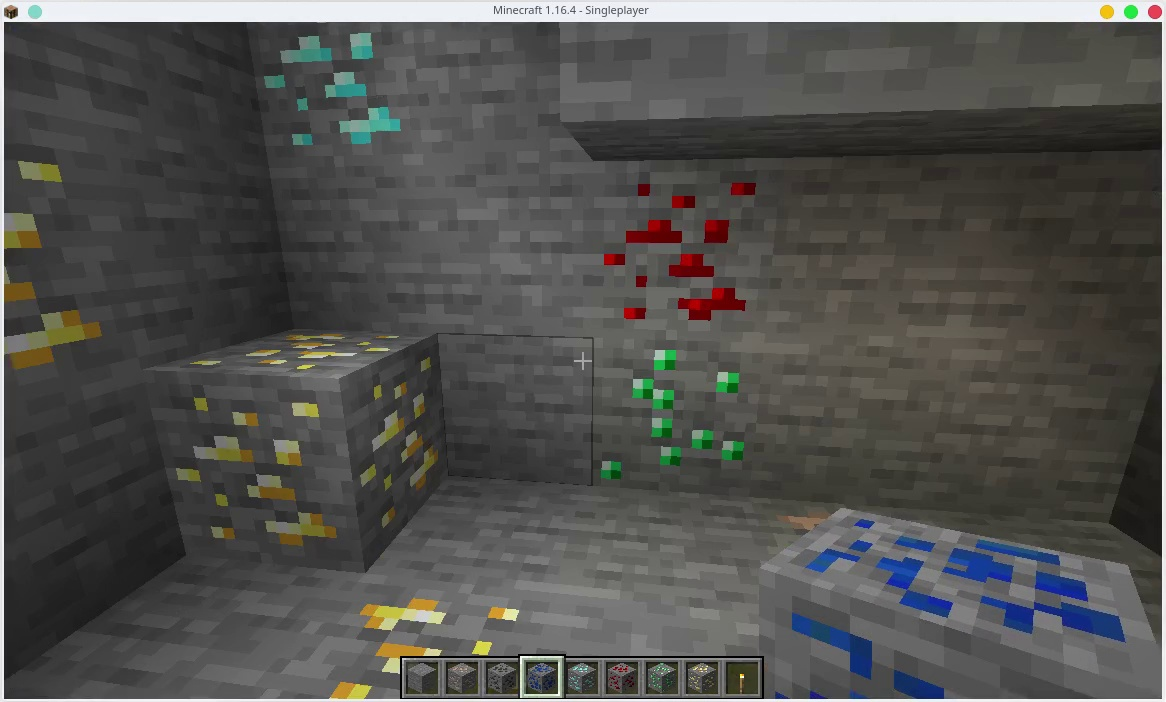gold: (151, 319, 446, 550), (6, 152, 106, 378), (348, 586, 525, 660), (687, 664, 715, 694)
